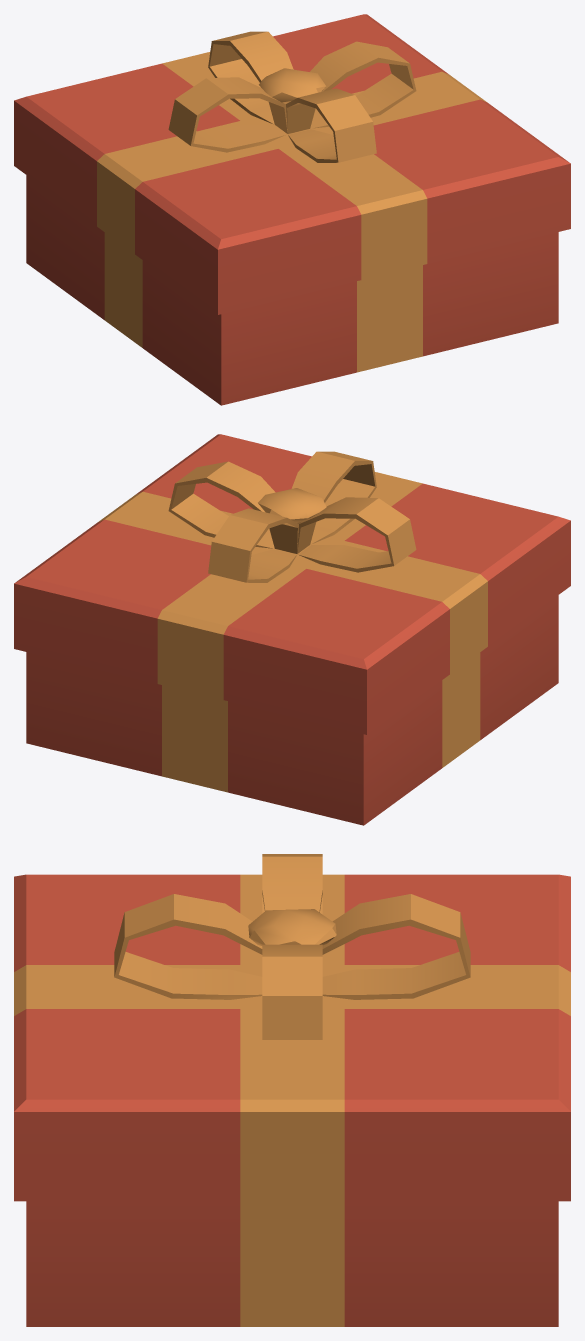
File: GiftBox_06.glb
The picture shows the model from 3 angles, top to bottom: view 1: azimuth 30°, elevation 25°; view 2: azimuth 150°, elevation 25°; view 3: azimuth 270°, elevation 25°; orthographic projection. The views are drawn at different scales.
Visible parts, largest first — view 1: GiftBox_06; view 2: GiftBox_06; view 3: GiftBox_06.
Part boxes in pixels (x1,y1,x2,y2): GiftBox_06: [14, 14, 570, 405]; GiftBox_06: [14, 434, 570, 825]; GiftBox_06: [14, 854, 570, 1326].
Bounding box in the file's own units: 0.4996 × 0.3046 × 0.4996.
Materials: 1 (1 with a texture image).
